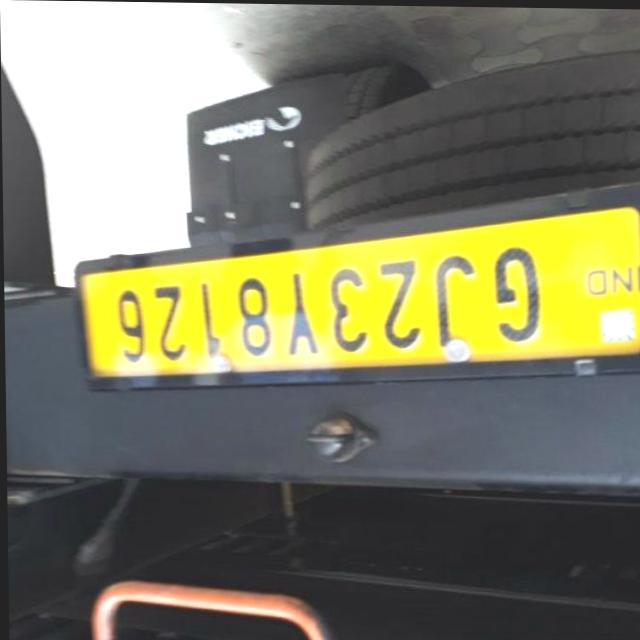1: (193, 278, 225, 358)
2: (374, 255, 421, 345), (148, 284, 188, 360)
3: (326, 270, 371, 350)
6: (110, 286, 148, 360)
8: (228, 276, 275, 355)
g: (484, 239, 548, 341)
j: (430, 251, 472, 345)
y: (281, 269, 317, 356)
